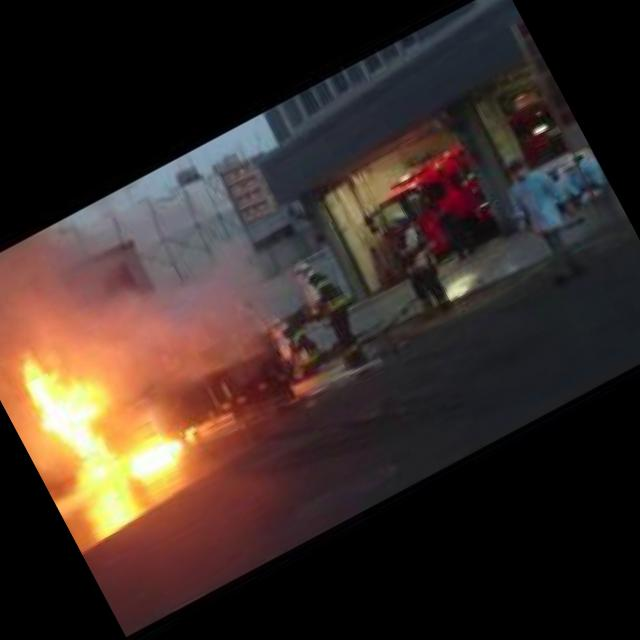fire: (6, 332, 128, 474), (119, 416, 204, 484)
smoke: (22, 158, 316, 432), (0, 208, 135, 384)
